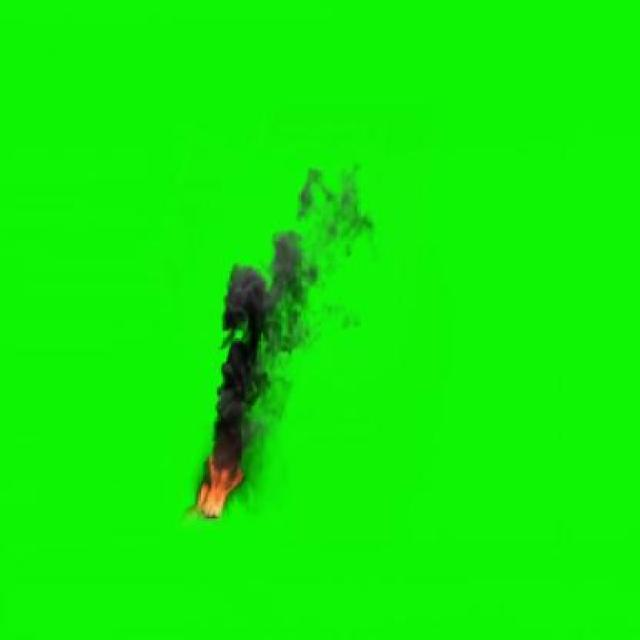Fire: (196, 448, 267, 521)
Smoke: (212, 167, 372, 479)
